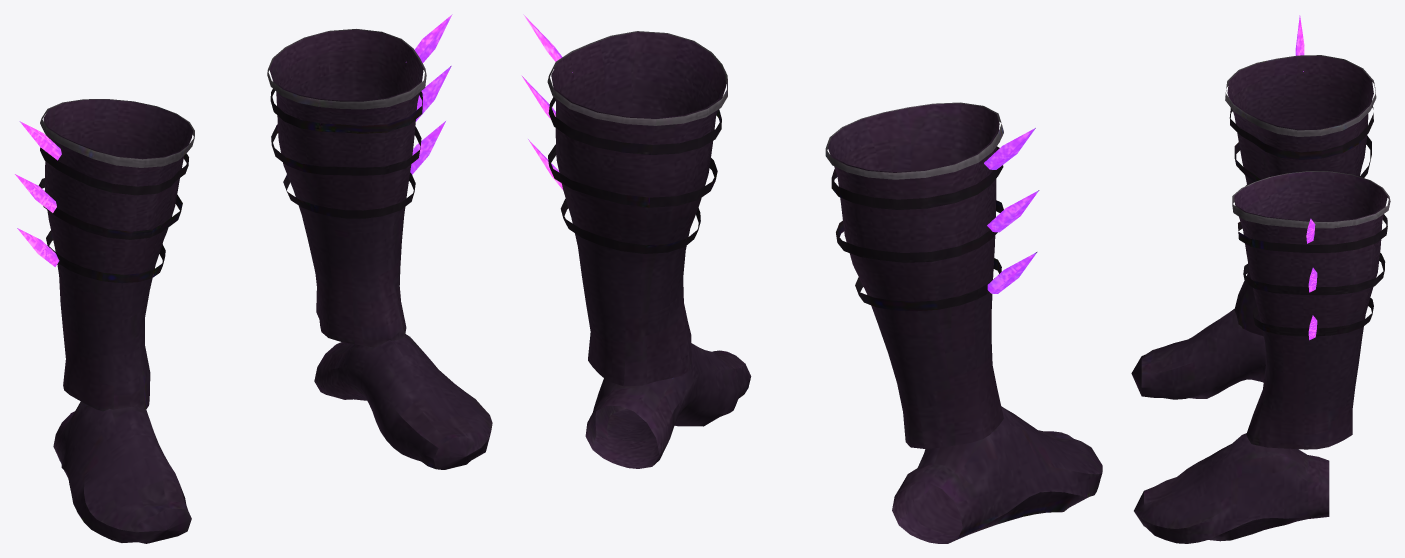
Rendered from Botas_de_Couro_nivel100.glb.
The picture shows the model from 3 angles, left to right: view 1: azimuth 30°, elevation 25°; view 2: azimuth 150°, elevation 25°; view 3: azimuth 270°, elevation 25°; orthographic projection. The views are drawn at different scales.
Parts seen in each view (by area): view 1: botas_de_couro_nivel100; view 2: botas_de_couro_nivel100; view 3: botas_de_couro_nivel100.
Part boxes in pixels (x1,y1,x2,y2): botas_de_couro_nivel100: (15, 14, 492, 543); botas_de_couro_nivel100: (521, 14, 1102, 543); botas_de_couro_nivel100: (1131, 15, 1390, 543).
Size of the model in its own units: 0.5633 by 0.4505 by 0.3054.
1 material, 1 textured.
